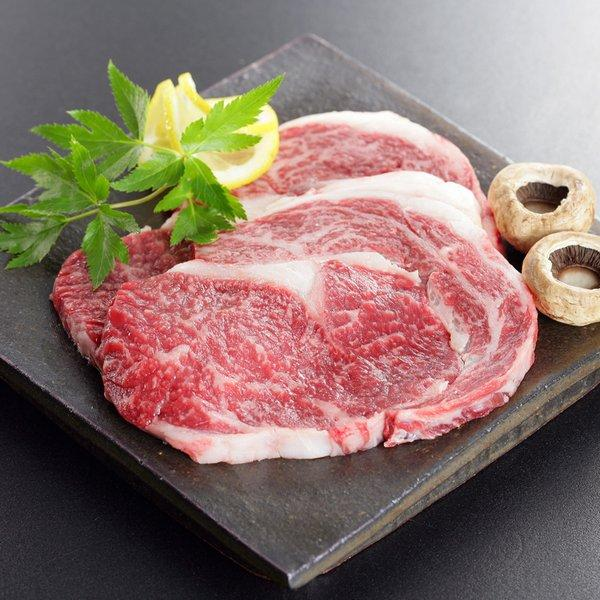beef: (73, 179, 513, 431)
